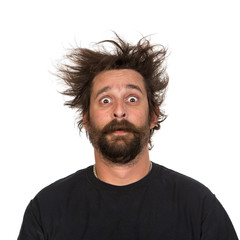young: (64, 39, 167, 165)
